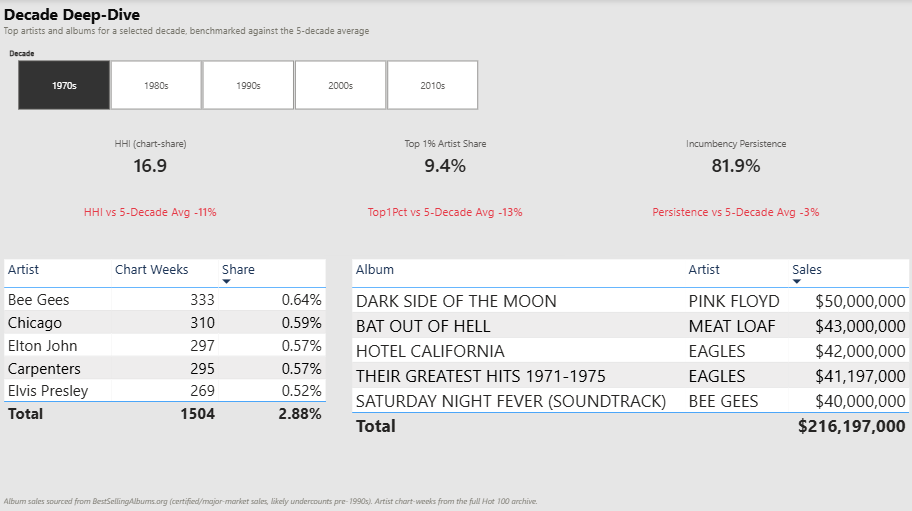

Layout of this report page (visuals, bound fields, positions):
{"tool":"powerbi","page":{"name":"Decade Deep Dive","canvas":[1280,720],"ordinal":2},"visuals":[{"type":"slicer","fields":{"Values":["decade_metrics_summary.decade"]},"box":[0,66.1,693.5,96.4],"z":0},{"type":"textbox","box":[0,0,525.4,66.1],"z":1000},{"type":"tableEx","fields":{"Values":["artist_decade_hot100_summary.performer","Sum(artist_decade_hot100_summary.chart_weeks)","Sum(artist_decade_hot100_summary.share_of_decade_weeks)"]},"box":[0,359.1,487.6,313.7],"z":2000},{"type":"tableEx","fields":{"Values":["album_sales_top50_by_decade.album","album_sales_top50_by_decade.artist","Sum(album_sales_top50_by_decade.sales)"]},"box":[487.6,359.1,791.8,313.7],"z":3000},{"type":"textbox","box":[0,687.9,1279.4,32.1],"z":4000},{"type":"cardVisual","fields":{"Data":["Sum(decade_metrics_summary.hhi_chart_share)"]},"box":[44.1,161.8,331.9,197.5],"z":5000},{"type":"cardVisual","fields":{"Data":["Sum(decade_metrics_summary.top1pct_artist_share_of_weeks)"]},"box":[453.7,161.8,338.2,197.5],"z":6000},{"type":"cardVisual","fields":{"Data":["Sum(decade_metrics_summary.avg_incumbency_persistence)"]},"box":[855,161.8,350.8,197.5],"z":7000}]}

Visuals, with their boxes in screenshot pixels (x1, y1, x2, y2), scaled from the page's 1280x720 canvas onto the 912x511 screenshot:
slicer - decade_metrics_summary.decade: <bbox>0, 47, 494, 115</bbox>
textbox: <bbox>0, 0, 374, 47</bbox>
tableEx - artist_decade_hot100_summary.performer x Sum(artist_decade_hot100_summary.chart_weeks): <bbox>0, 255, 347, 478</bbox>
tableEx - album_sales_top50_by_decade.album x album_sales_top50_by_decade.artist: <bbox>347, 255, 911, 478</bbox>
textbox: <bbox>0, 488, 911, 510</bbox>
cardVisual - Sum(decade_metrics_summary.hhi_chart_share): <bbox>31, 115, 268, 255</bbox>
cardVisual - Sum(decade_metrics_summary.top1pct_artist_share_of_weeks): <bbox>323, 115, 564, 255</bbox>
cardVisual - Sum(decade_metrics_summary.avg_incumbency_persistence): <bbox>609, 115, 859, 255</bbox>
